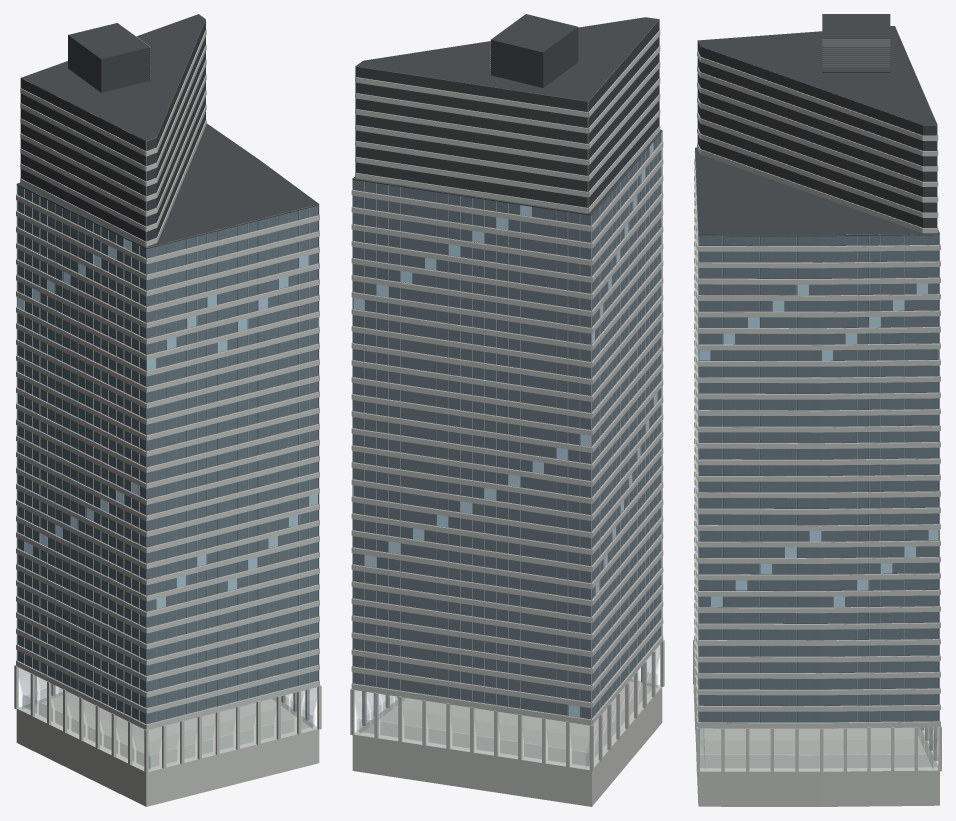
File: wacker_200.glb
3 views of the same model, side by side, from view 1: azimuth 30°, elevation 25°; view 2: azimuth 150°, elevation 25°; view 3: azimuth 270°, elevation 25° (orthographic). The views are drawn at different scales.
Parts seen in each view (by area): view 1: Recessed grey blue office panes, Pale precast facade panels, Recessed service roof and louvres, Projecting silver facade frames, Clear angled lobby glazing, Night occupied office panes; view 2: Recessed grey blue office panes, Pale precast facade panels, Recessed service roof and louvres, Projecting silver facade frames, Clear angled lobby glazing, Night occupied office panes; view 3: Recessed grey blue office panes, Pale precast facade panels, Recessed service roof and louvres, Projecting silver facade frames, Clear angled lobby glazing, Night occupied office panes.
Boxes of the visible parts, bbox=[...] form: Recessed grey blue office panes: bbox=[17, 185, 318, 723]; Pale precast facade panels: bbox=[14, 29, 321, 806]; Recessed service roof and louvres: bbox=[16, 14, 318, 723]; Projecting silver facade frames: bbox=[16, 19, 319, 724]; Clear angled lobby glazing: bbox=[19, 668, 316, 768]; Night occupied office panes: bbox=[17, 238, 318, 608]; Recessed grey blue office panes: bbox=[353, 133, 661, 718]; Pale precast facade panels: bbox=[350, 30, 664, 806]; Recessed service roof and louvres: bbox=[352, 14, 662, 719]; Projecting silver facade frames: bbox=[352, 14, 662, 719]; Clear angled lobby glazing: bbox=[355, 645, 659, 767]; Night occupied office panes: bbox=[353, 143, 661, 717]; Recessed grey blue office panes: bbox=[698, 235, 939, 722]; Pale precast facade panels: bbox=[693, 51, 941, 806]; Recessed service roof and louvres: bbox=[695, 14, 939, 722]; Projecting silver facade frames: bbox=[695, 39, 939, 739]; Clear angled lobby glazing: bbox=[700, 727, 937, 768]; Night occupied office panes: bbox=[698, 283, 939, 607].
Size of the model in its own units: 51.01 by 162 by 51.26.
